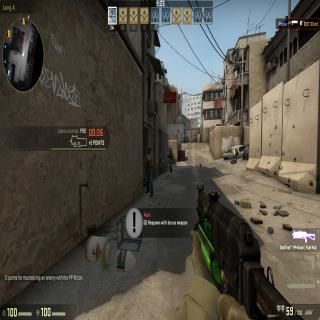T-Body: (144, 146, 154, 196), (168, 150, 174, 172)
T-Head: (147, 146, 152, 156), (169, 149, 171, 155)
